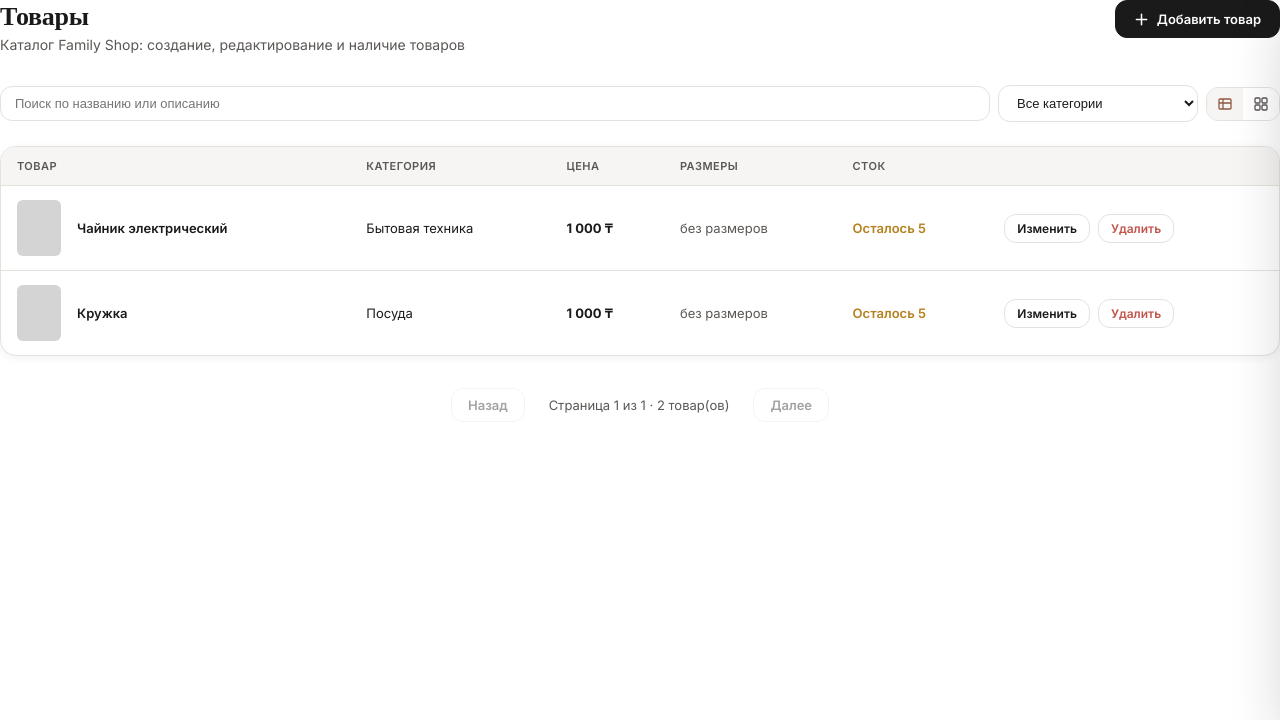
Test: product form - gender field › is shown for a category with sizes that has no gender of its own
Click the button "Изменить" in the row of "Чайник электрический" at (1047, 228), box [1004,214,1090,242]
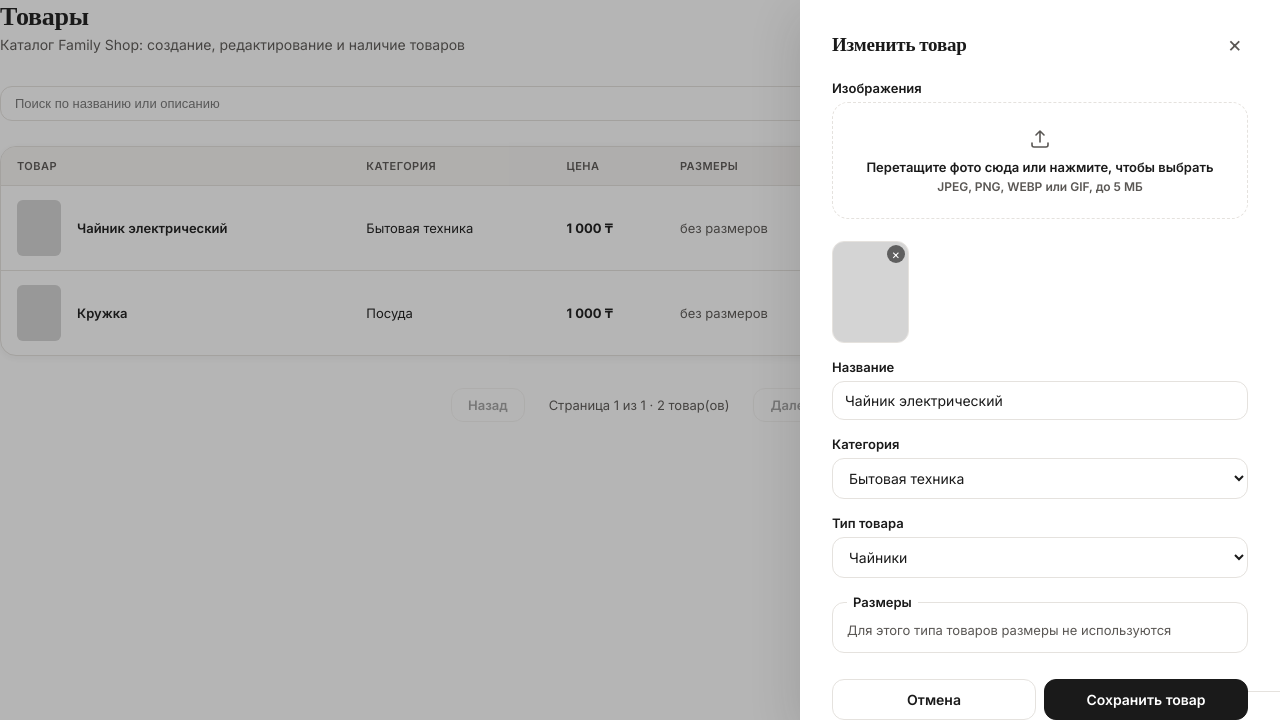
Check: the dropdown labelled "Категория" is shown
Select "Новинки сезона" in the dropdown labelled "Категория" at (1040, 479), box [832,458,1248,499]
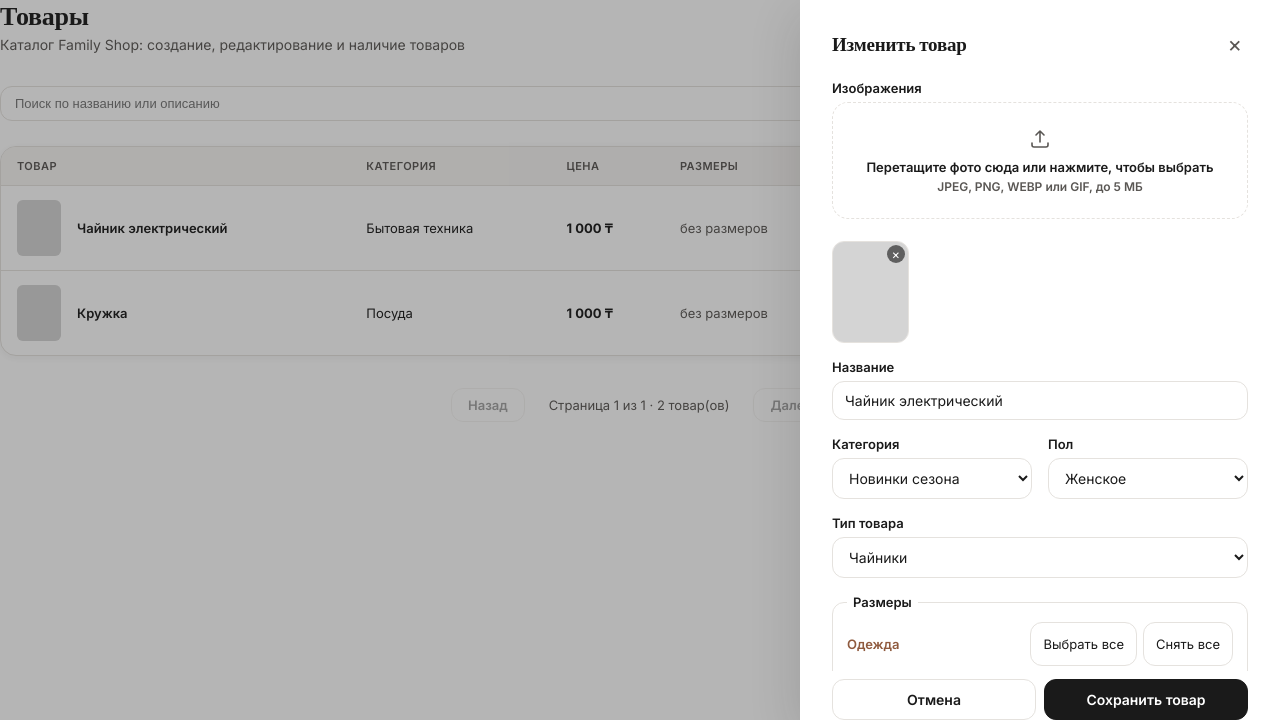
Check: the dropdown labelled "Пол" is shown, box [1048,458,1248,499]
